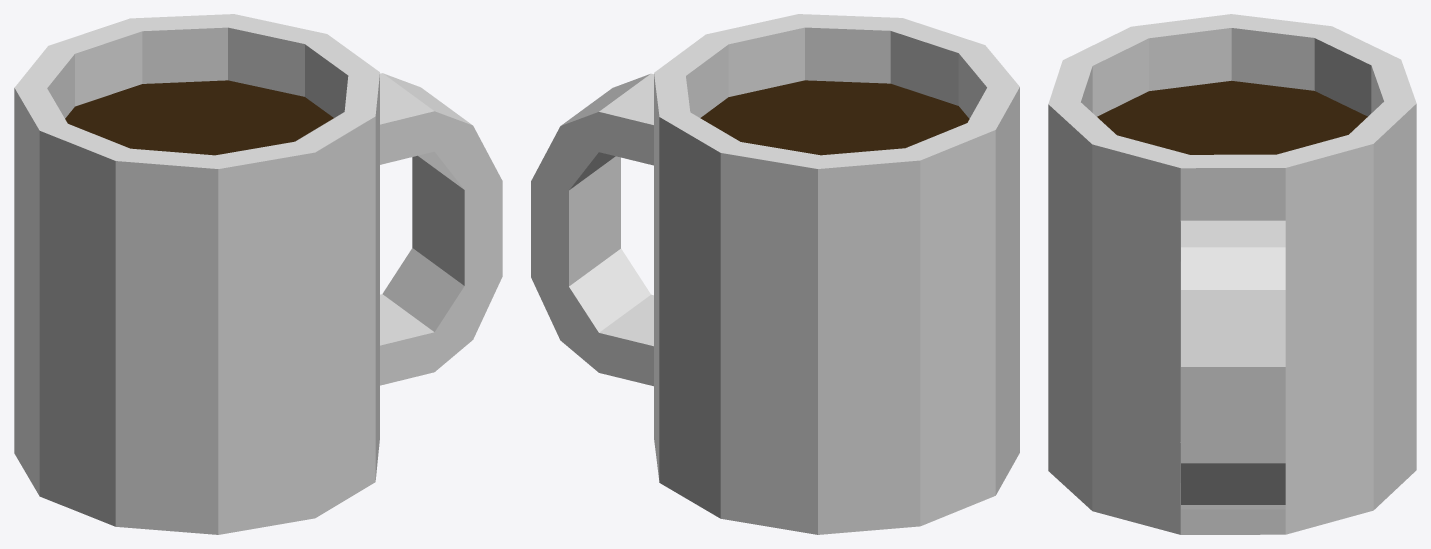
Rendered from Coffee mug.fbx.
The picture shows the model from 3 angles, left to right: view 1: azimuth 30°, elevation 25°; view 2: azimuth 150°, elevation 25°; view 3: azimuth 270°, elevation 25°; orthographic projection.
Parts seen in each view (by area): view 1: Cup; view 2: Cup; view 3: Cup.
Boxes of the visible parts, left/top/right/bottom form: Cup: left=14, top=14, right=502, bottom=534; Cup: left=531, top=14, right=1019, bottom=534; Cup: left=1048, top=14, right=1416, bottom=534.
Size of the model in its own units: 81.19 by 59.02 by 64.85.
